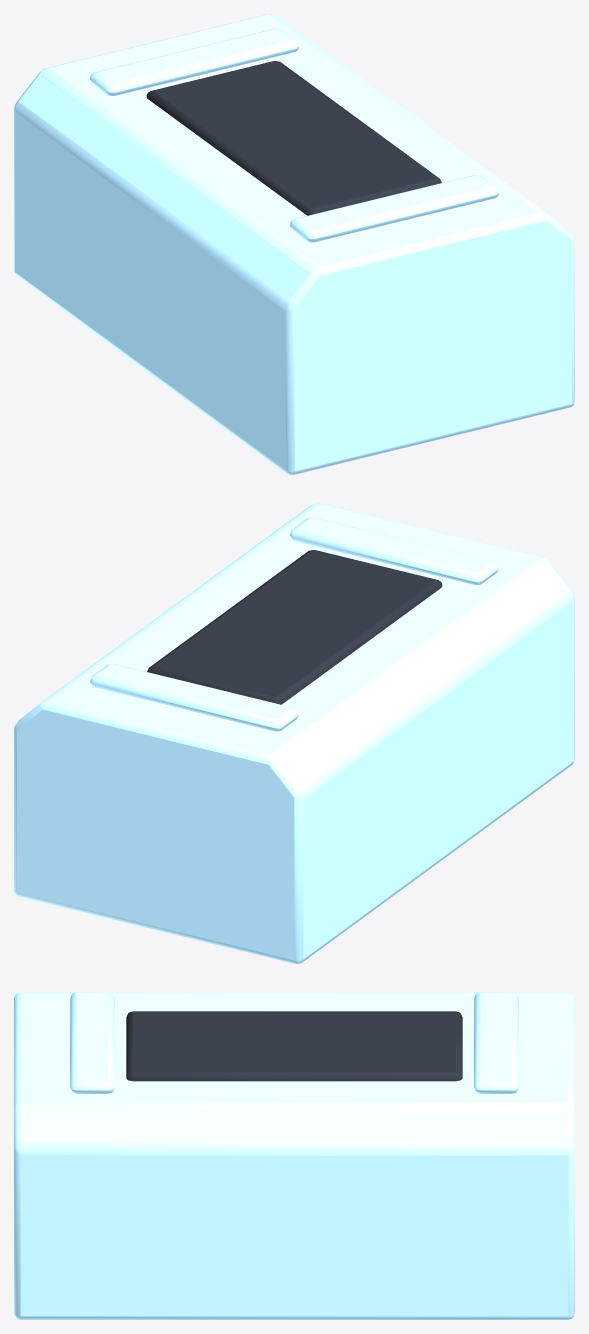
Rendered from ware_ozeaneis.fbx.
The picture shows the model from 3 angles, top to bottom: view 1: azimuth 30°, elevation 25°; view 2: azimuth 150°, elevation 25°; view 3: azimuth 270°, elevation 25°; orthographic projection.
Visible parts, largest first — view 1: ware_ozeaneis_Koerper; view 2: ware_ozeaneis_Koerper; view 3: ware_ozeaneis_Koerper.
Part boxes in pixels (x1,y1,x2,y2): ware_ozeaneis_Koerper: (14, 14, 574, 474); ware_ozeaneis_Koerper: (14, 503, 574, 963); ware_ozeaneis_Koerper: (14, 992, 574, 1319).
Bounding box in the file's own units: 0.3 × 0.211 × 0.5.
